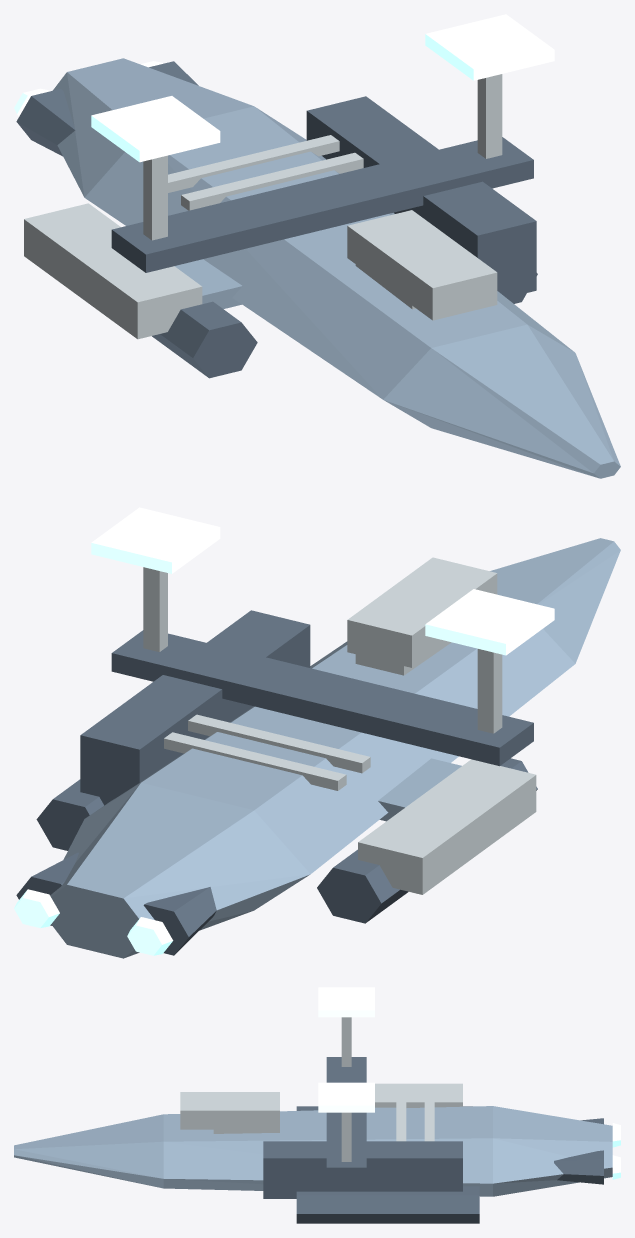
3 renders of one model, top to bottom at view 1: azimuth 30°, elevation 25°; view 2: azimuth 150°, elevation 25°; view 3: azimuth 270°, elevation 25°, orthographic. The views are drawn at different scales.
Size of the model in its own units: 3.6 by 1.9 by 7.81.
